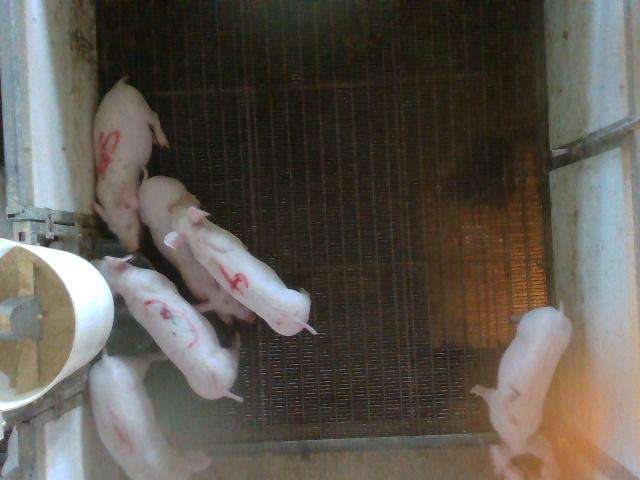pig-1: (89, 354, 188, 479)
pig-2: (471, 306, 571, 473)
pig-3: (94, 256, 241, 401)
pig-4: (166, 206, 316, 336)
pig-5: (92, 78, 169, 253)
